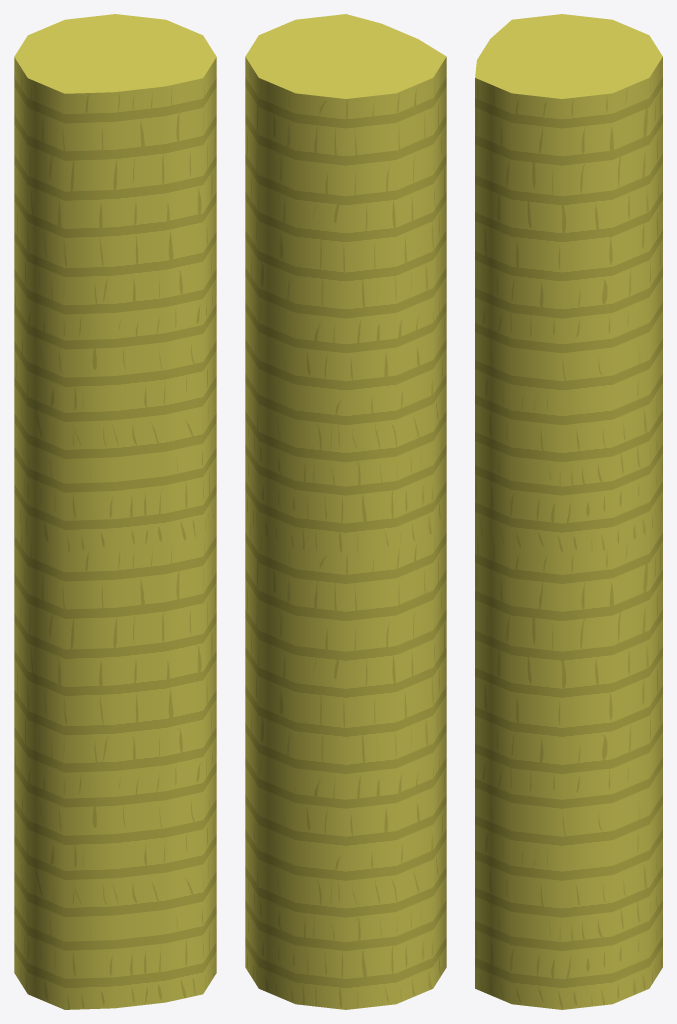
The model's file is CoinStackMed.fbx.
3 renders of one model, left to right at view 1: azimuth 30°, elevation 25°; view 2: azimuth 150°, elevation 25°; view 3: azimuth 270°, elevation 25°, orthographic.
Parts seen in each view (by area): view 1: Cylinder015; view 2: Cylinder015; view 3: Cylinder015.
Boxes of the visible parts, x1,y1,x2,y2 form: Cylinder015: [14, 14, 216, 1009]; Cylinder015: [245, 14, 446, 1009]; Cylinder015: [475, 14, 662, 1009].
Bounding box in the file's own units: 8.61 × 8.04 × 43.
3 materials, 2 textured.
